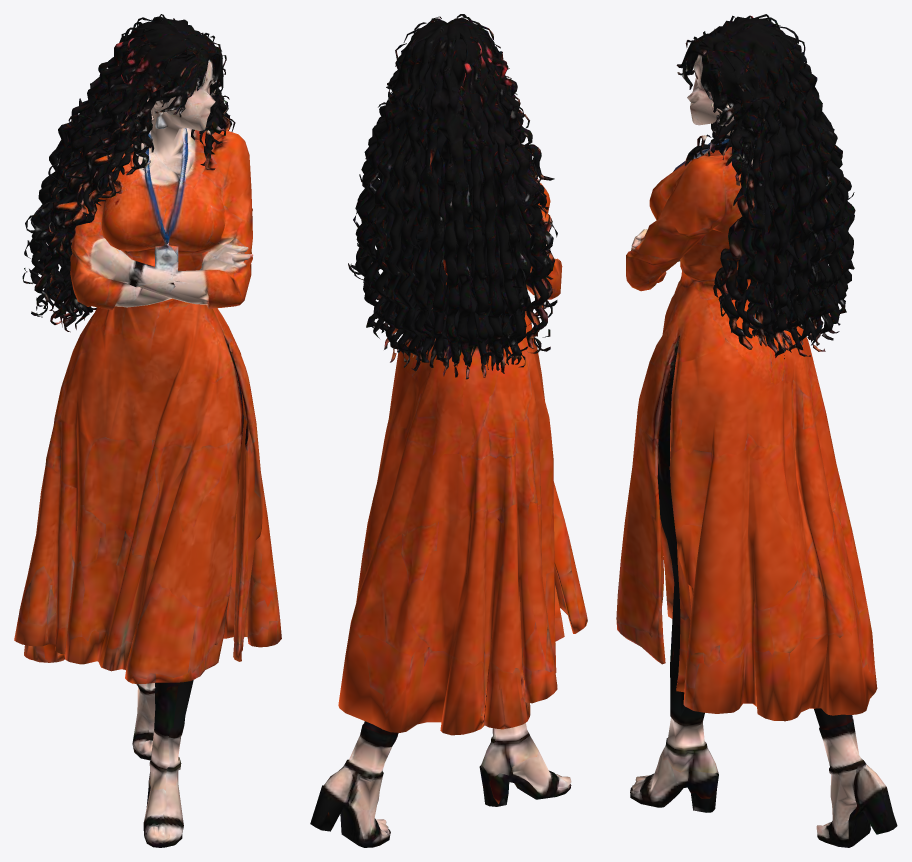
The model's file is fiery_sensi.glb.
3 views of the same model, side by side, from view 1: azimuth 30°, elevation 25°; view 2: azimuth 150°, elevation 25°; view 3: azimuth 270°, elevation 25° (orthographic). The views are drawn at different scales.
Size of the model in its own units: 0.5672 by 1.9 by 0.6052.
1 material, 1 textured.
